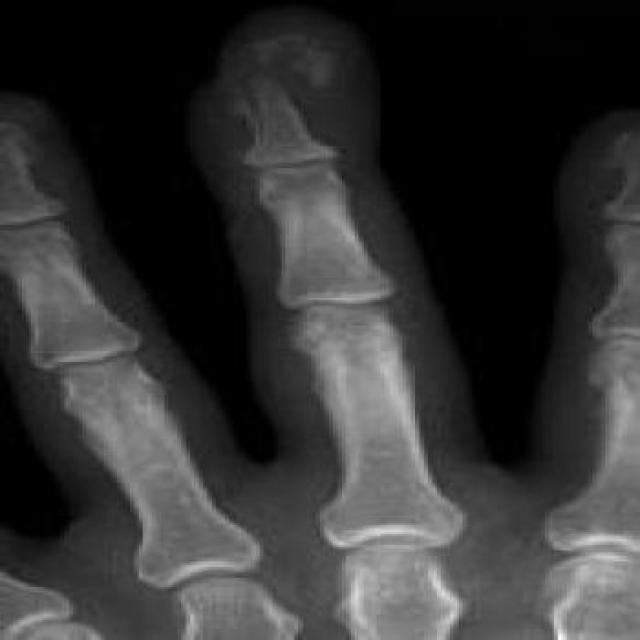fracture: (212, 85, 302, 145)
